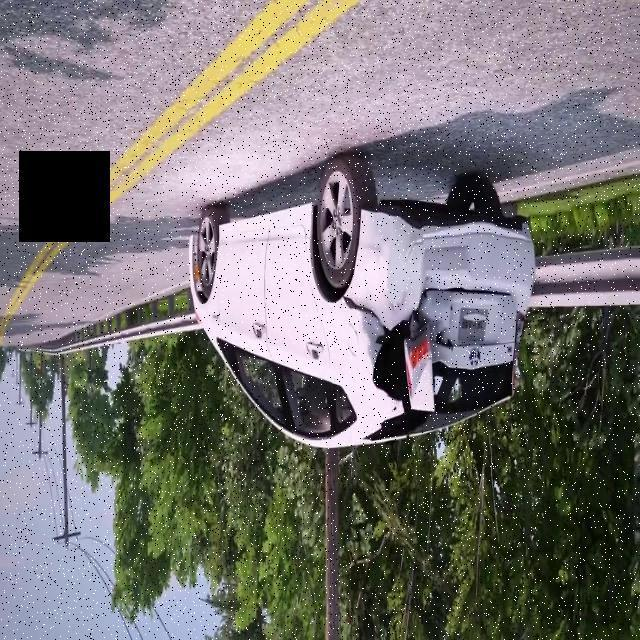vehicle: (160, 138, 546, 476)
